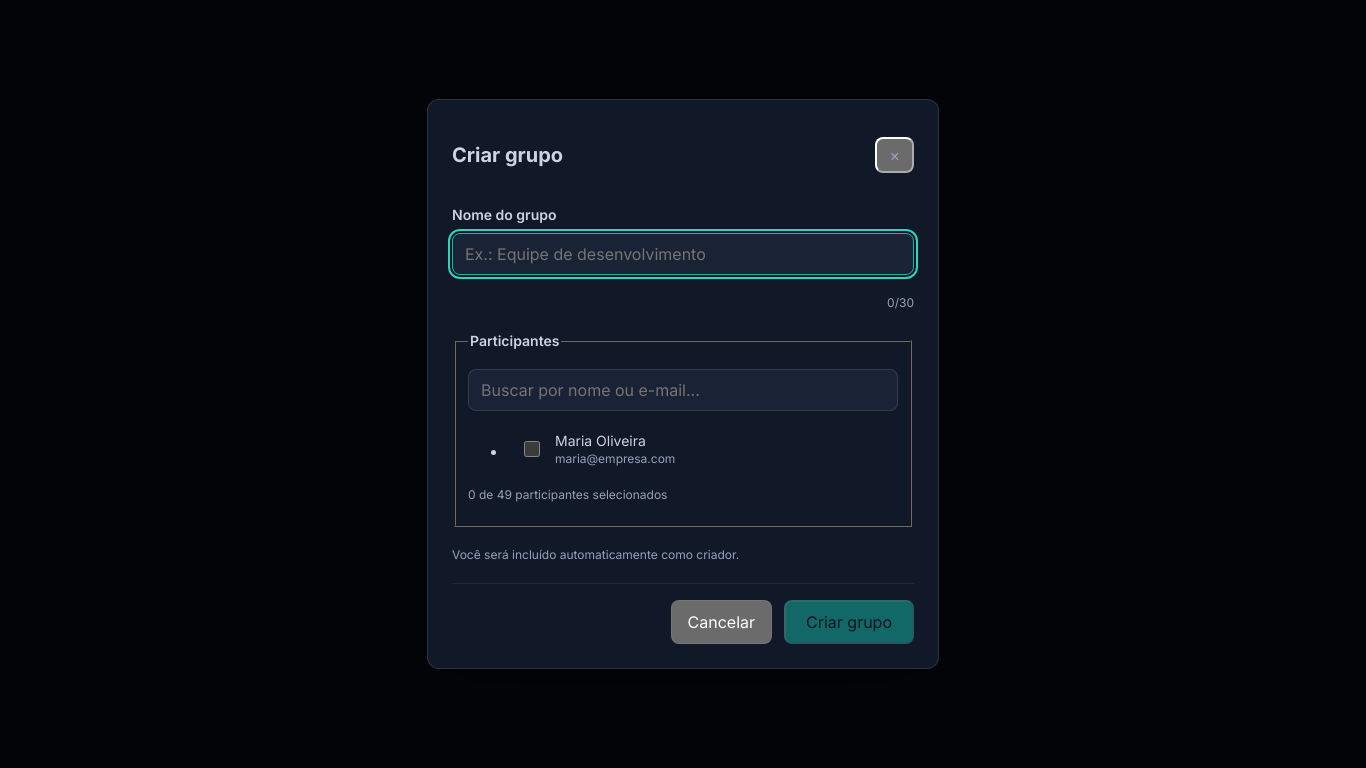
deve apresentar erro retornado pela API
Type "  Equipe  " into the field labelled "Nome do grupo". click: (683, 254)
box: left=452, top=233, right=914, bottom=275
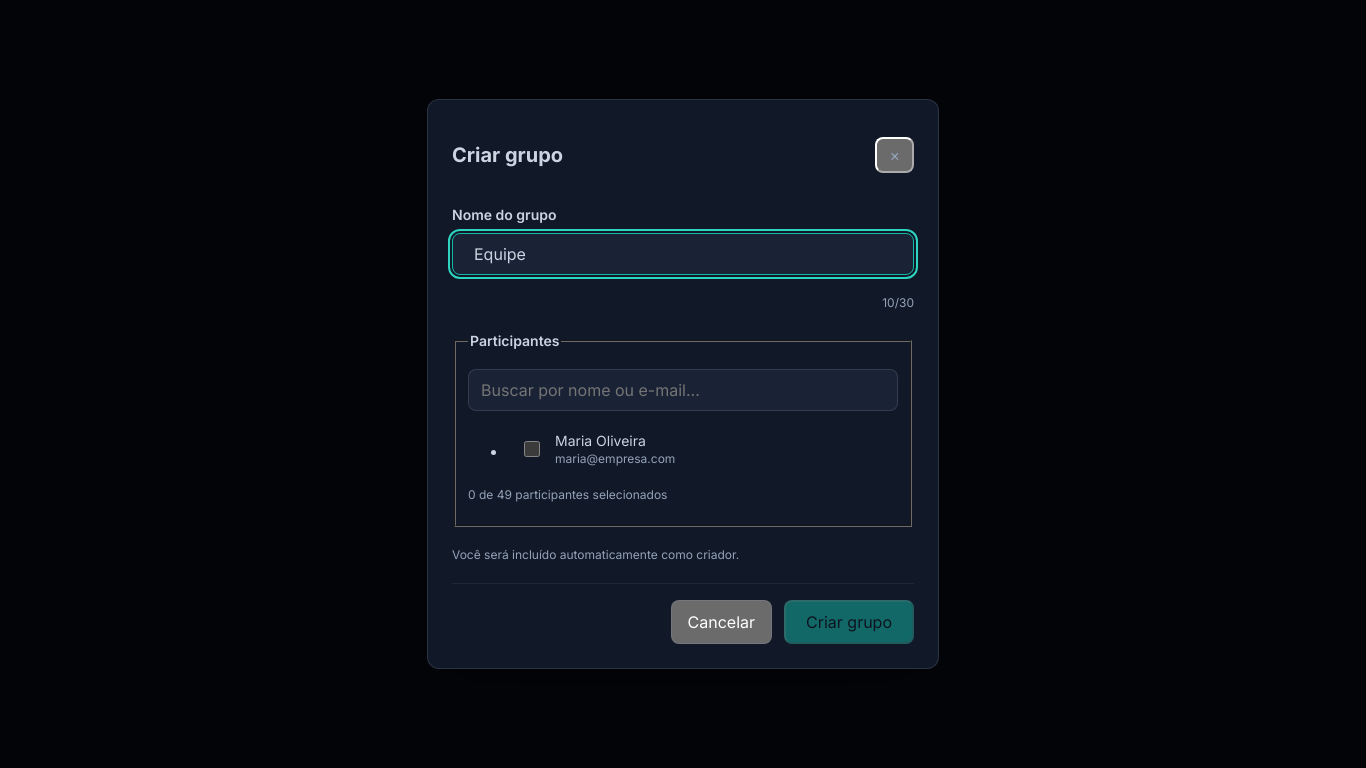
Click the checkbox named "Selecionar Maria Oliveira". click: (532, 449)
box: left=524, top=441, right=540, bottom=457
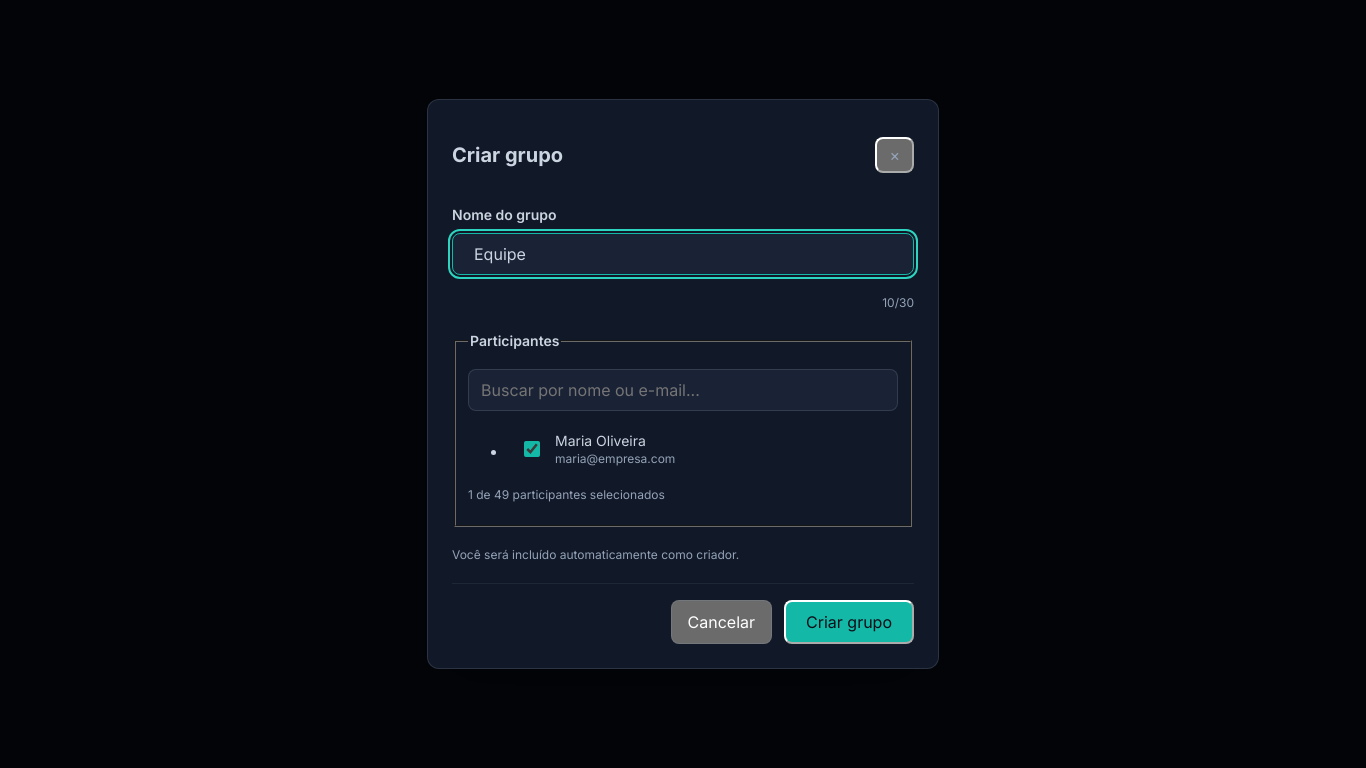
Click the button "Criar grupo". click: (849, 622)
box: left=784, top=600, right=914, bottom=644
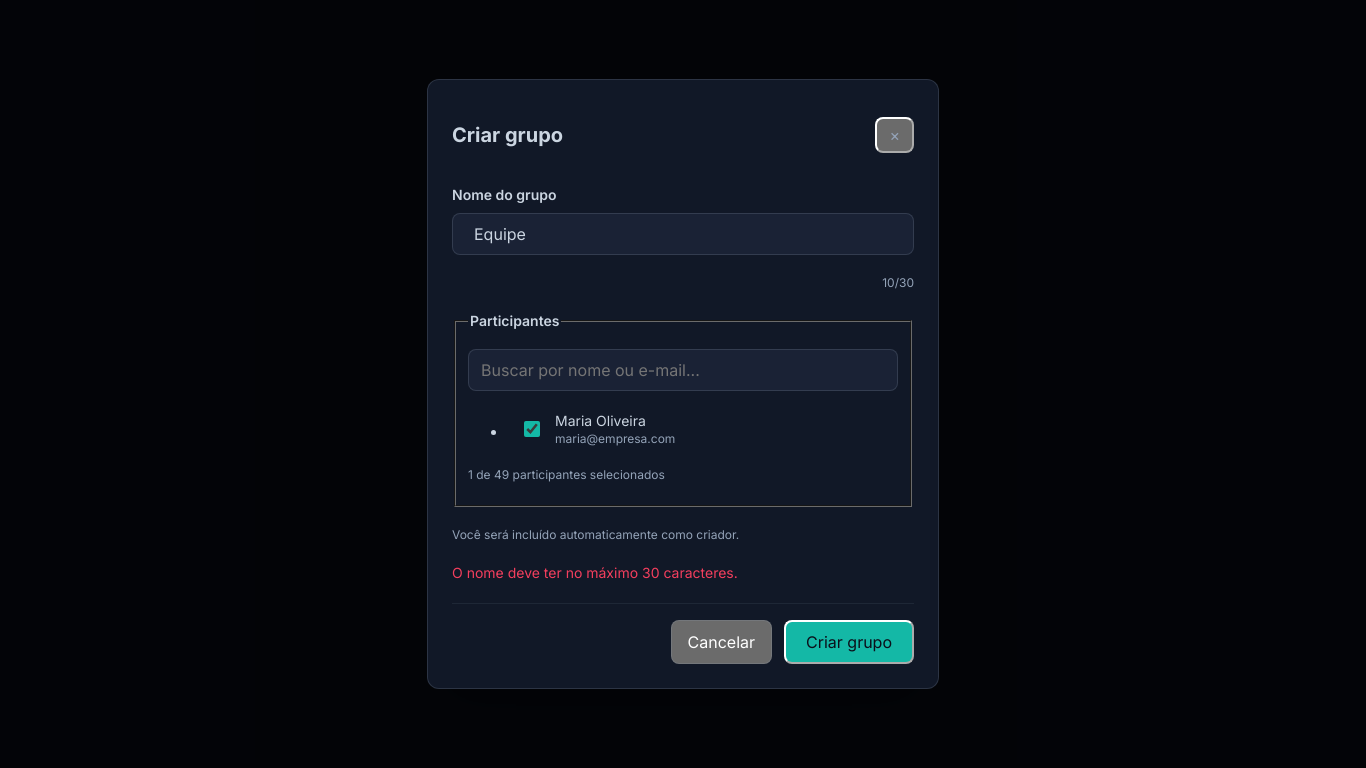
Check: the message reads "O nome deve ter no máximo 30 caracteres.", box left=452, top=564, right=738, bottom=581
